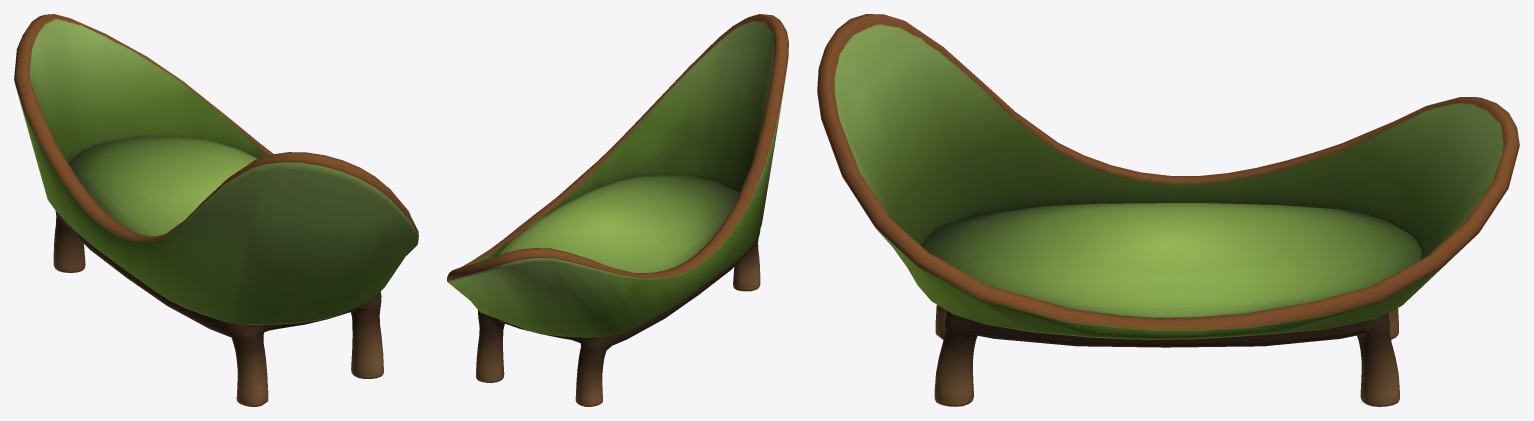
Rendered from sofa_long.glb.
3 renders of one model, left to right at view 1: azimuth 30°, elevation 25°; view 2: azimuth 150°, elevation 25°; view 3: azimuth 270°, elevation 25°, orthographic. The views are drawn at different scales.
Visible parts, largest first — view 1: fc_sofa_1.smd; view 2: fc_sofa_1.smd; view 3: fc_sofa_1.smd.
Boxes of the visible parts, x1,y1,x2,y2 form: fc_sofa_1.smd: [14, 14, 418, 406]; fc_sofa_1.smd: [447, 14, 788, 406]; fc_sofa_1.smd: [817, 14, 1519, 406].
Bounding box in the file's own units: 1.03 × 1.2 × 2.39.
Materials: 1 (1 with a texture image).
